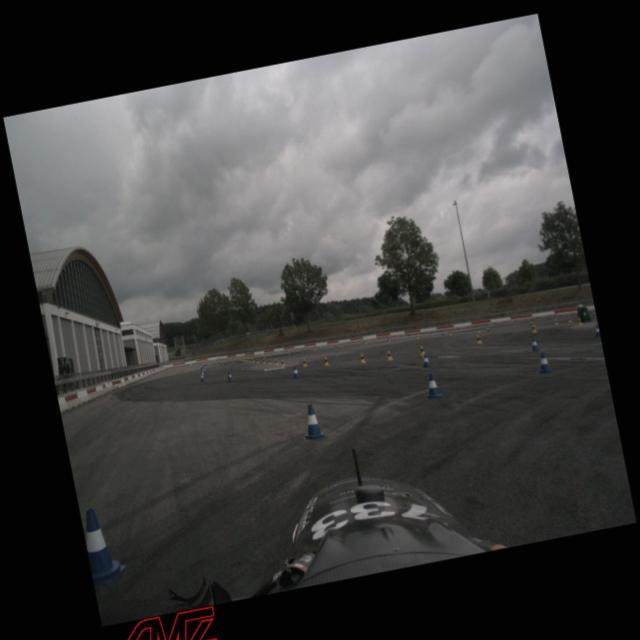blue_cone: (80, 503, 130, 588), (298, 402, 328, 442), (422, 372, 442, 401), (536, 350, 554, 376), (421, 353, 432, 369), (529, 336, 540, 352), (291, 366, 301, 380), (225, 371, 234, 383), (593, 324, 600, 338), (199, 372, 206, 383), (486, 326, 490, 331)
yellow_cone: (385, 350, 394, 362), (474, 334, 483, 345), (358, 352, 366, 364), (322, 356, 330, 368), (419, 346, 426, 358), (576, 317, 584, 327), (530, 324, 538, 334), (554, 318, 560, 328), (302, 358, 308, 367), (274, 358, 280, 367), (566, 316, 572, 324), (280, 359, 286, 366), (267, 358, 272, 366), (262, 358, 267, 366), (477, 328, 481, 333)
